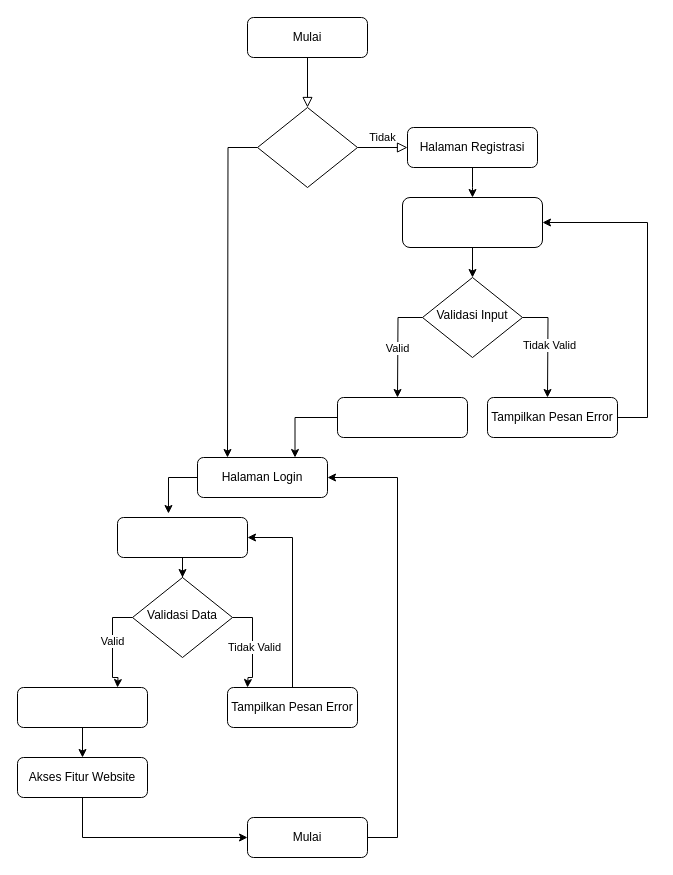
This 673x875 diagram has some shape labels left out. The centre of each missing label's shape, as x and y in pixels:
Dialihkan ke Beranda: [82,707]
Masukkan Username & Password: [182,537]
Masukkan Username,Email, & Password: [472,222]
Punya akun?: [307,147]
Simpan ke Database: [402,417]
